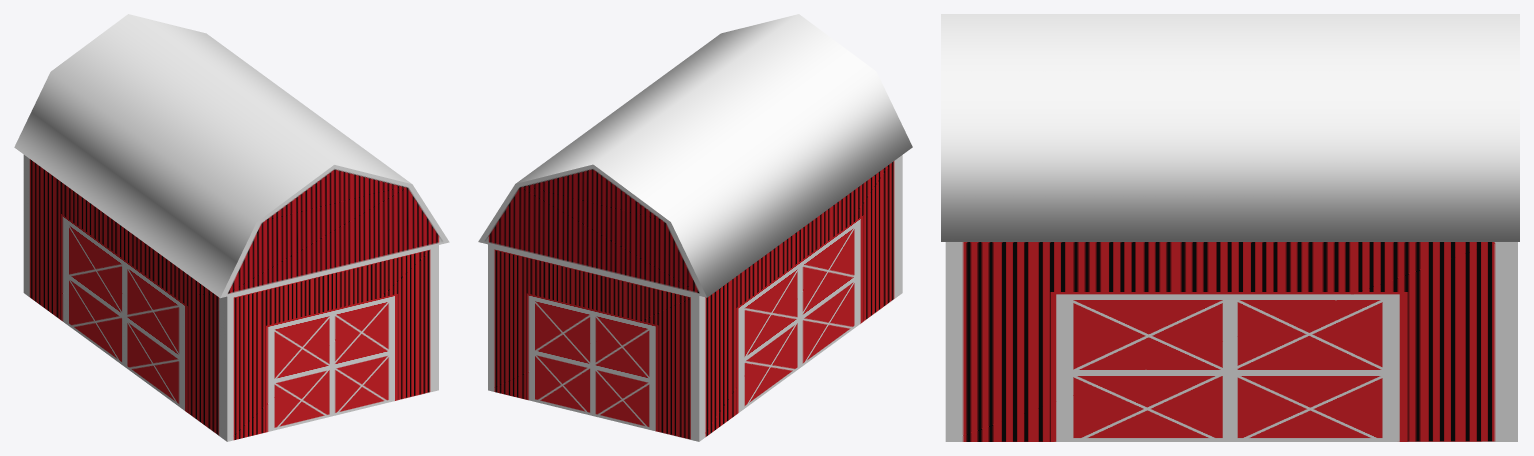
Rendered from barn.FBX.
3 views of the same model, side by side, from view 1: azimuth 30°, elevation 25°; view 2: azimuth 150°, elevation 25°; view 3: azimuth 270°, elevation 25° (orthographic). The views are drawn at different scales.
Parts seen in each view (by area): view 1: BarnTop, BarnBase; view 2: BarnTop, BarnBase; view 3: BarnTop, BarnBase.
Part boxes in pixels (<box>): BarnTop: <box>14,14,449,298</box>; BarnBase: <box>23,155,438,441</box>; BarnTop: <box>478,14,912,297</box>; BarnBase: <box>488,155,902,441</box>; BarnTop: <box>941,14,1519,241</box>; BarnBase: <box>945,242,1517,441</box>.
Bounding box in the file's own units: 72.66 × 76.44 × 113.
